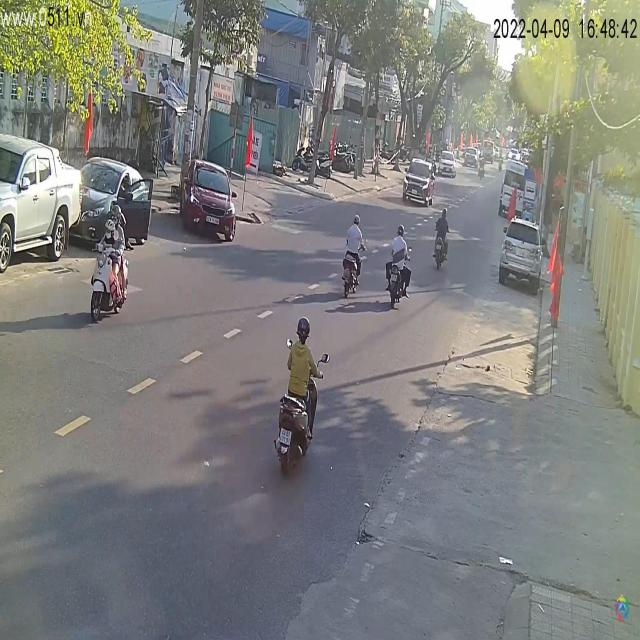car: (1, 131, 83, 278), (78, 160, 155, 250), (181, 158, 239, 242), (499, 212, 543, 296), (499, 160, 539, 226), (403, 162, 436, 206), (436, 152, 456, 178)
motorcycle: (272, 378, 323, 477), (85, 246, 134, 322), (385, 252, 408, 310), (339, 245, 363, 295), (434, 235, 448, 268)
